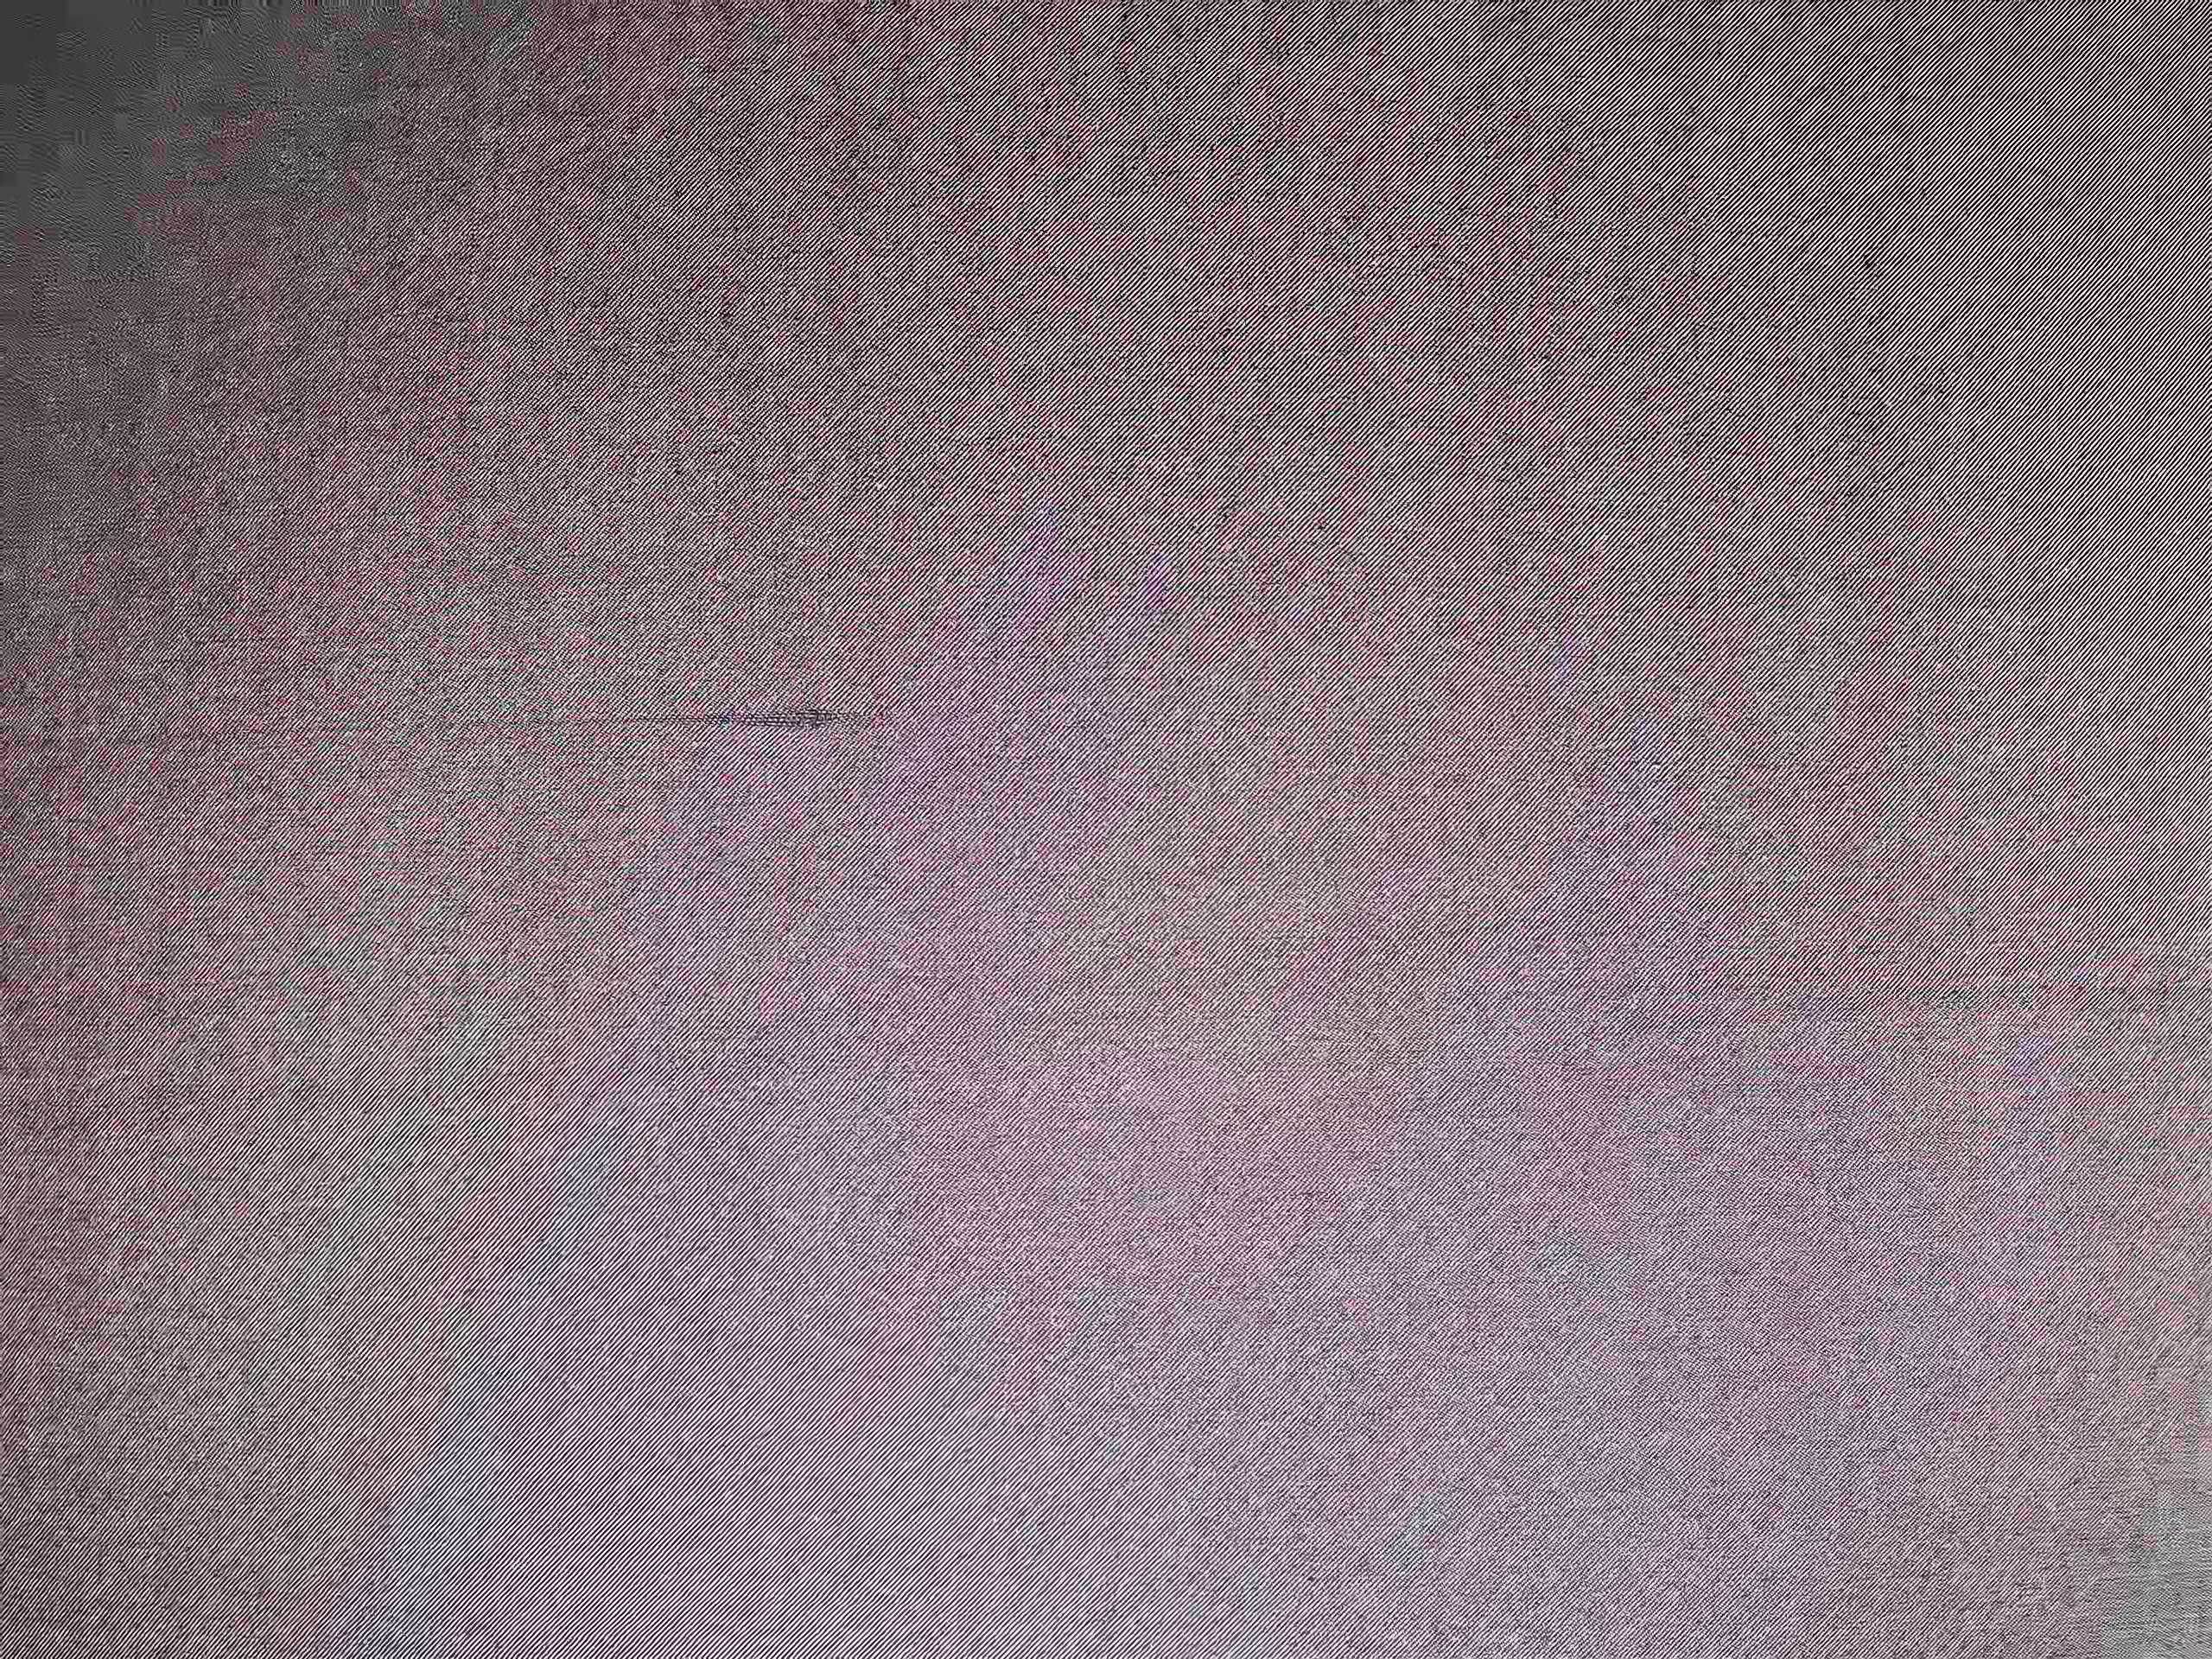thin-spinning: (19, 692, 913, 762)
